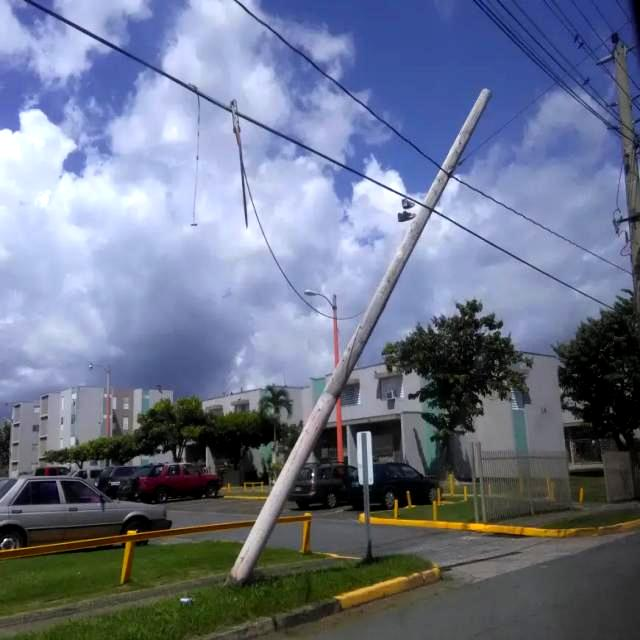Broken Pole: (216, 76, 504, 588)
